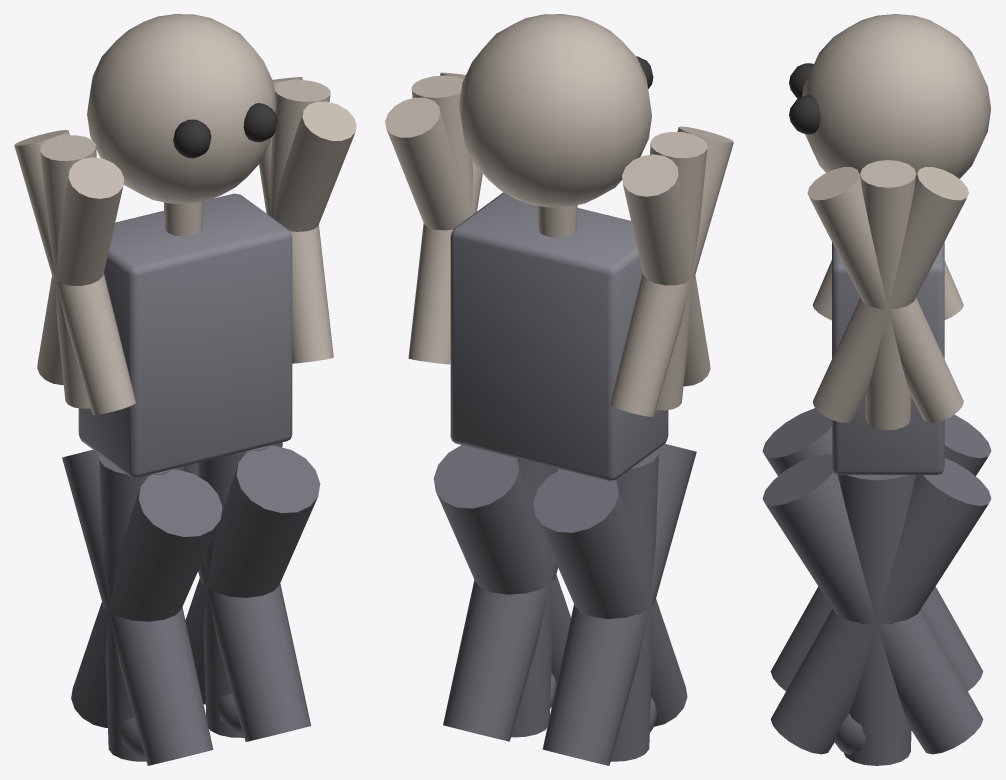
File: npc_0.glb
The picture shows the model from 3 angles, left to right: view 1: azimuth 30°, elevation 25°; view 2: azimuth 150°, elevation 25°; view 3: azimuth 270°, elevation 25°; orthographic projection. The views are drawn at different scales.
Parts seen in each view (by area): view 1: idle_torso, idle_head, stepA_legL, stepB_legL, stepB_legR, stepA_legR, stepA_armL, stepB_armL, stepA_armR, idle_legL, stepB_armR, idle_armL (+7 smaller); view 2: idle_torso, idle_head, stepB_legL, stepA_legL, stepA_legR, stepB_legR, stepB_armL, stepA_armL, stepB_armR, idle_legL, stepA_armR, idle_armL (+3 smaller); view 3: idle_head, stepB_legR, stepA_legR, idle_legR, stepB_armR, stepA_armR, idle_torso, idle_armR, stepA_legL, stepB_legL, idle_eR, idle_footR (+3 smaller).
Boxes of the visible parts, box(x1,y1,x2,y2) form: idle_torso: box(78, 193, 292, 477); idle_head: box(87, 14, 276, 203); stepA_legL: box(71, 469, 222, 727); stepB_legL: box(62, 450, 213, 765); stepB_legR: box(185, 446, 320, 704); stepA_legR: box(184, 463, 310, 741); stepA_armL: box(14, 130, 135, 414); stepB_armL: box(37, 157, 123, 384); stepA_armR: box(272, 101, 356, 231); idle_legL: box(99, 455, 184, 761); stepB_armR: box(259, 77, 333, 363); idle_armL: box(40, 135, 96, 408); idle_torso: box(450, 192, 668, 480); idle_head: box(459, 14, 651, 207); stepB_legL: box(533, 469, 687, 726); stepA_legL: box(542, 444, 696, 765); stepA_legR: box(433, 445, 570, 683); stepB_legR: box(443, 468, 560, 741); stepB_armL: box(610, 126, 733, 416); stepA_armL: box(622, 154, 710, 386); stepB_armR: box(385, 97, 470, 230); idle_legL: box(610, 449, 658, 761); stepA_armR: box(408, 72, 482, 364); idle_armL: box(650, 132, 707, 410); idle_head: box(802, 14, 990, 178); stepB_legR: box(762, 453, 983, 754); stepA_legR: box(770, 458, 991, 754); idle_legR: box(838, 474, 915, 765); stepB_armR: box(812, 167, 968, 422); stepA_armR: box(807, 167, 963, 422); idle_torso: box(832, 242, 944, 474); idle_armR: box(860, 160, 916, 430); stepA_legL: box(762, 408, 983, 690); stepB_legL: box(770, 414, 991, 690); idle_eR: box(789, 95, 820, 134); idle_footR: box(834, 713, 866, 754).
Size of the model in its own units: 0.8695 by 2.08 by 0.6094.
